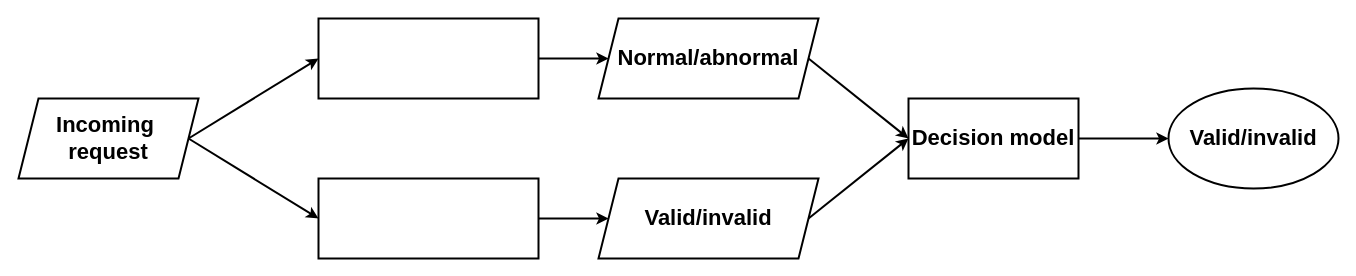
Image size: 1356x276. Some labels were removed from this diagram. The box of each missing label's shape, as (x1, y1, x2, y2) in pixels:
Request validator based on category: (317, 17, 539, 99)
Request validator based on logistic regression: (317, 177, 539, 259)
